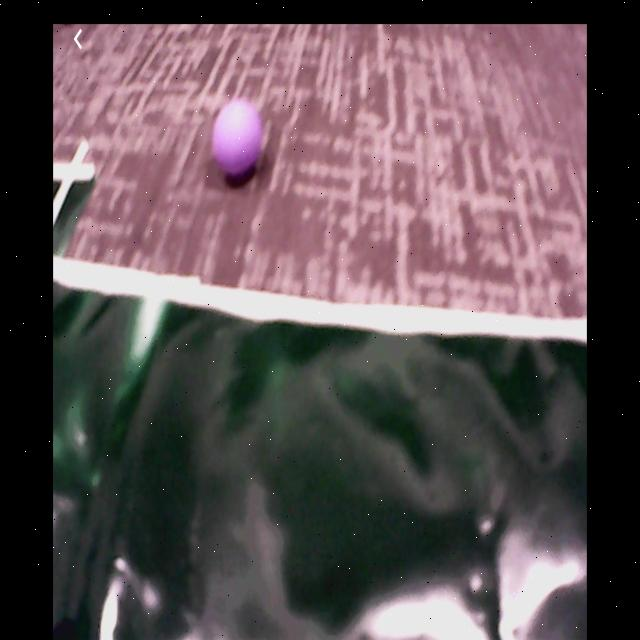ball: (212, 97, 264, 180)
